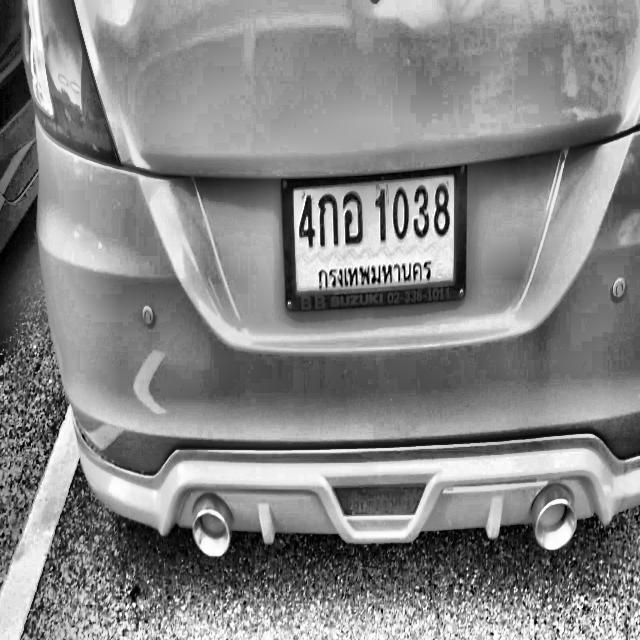license-plate: (283, 160, 471, 316)
